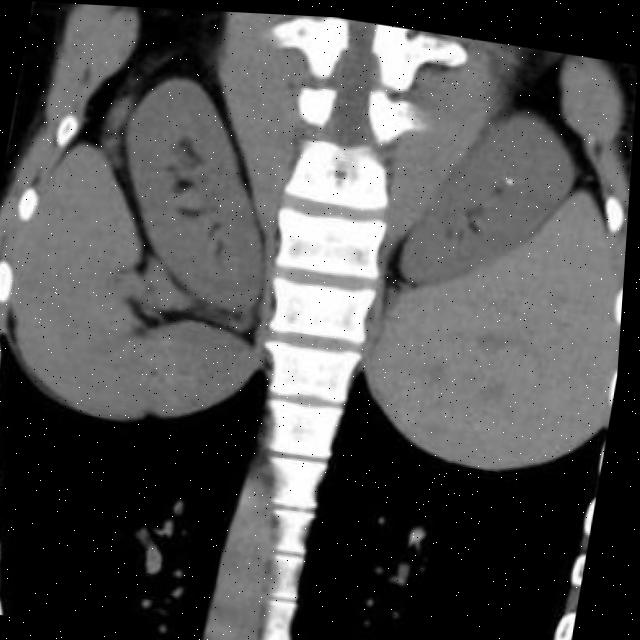Tas_Var: (500, 166, 518, 183)
